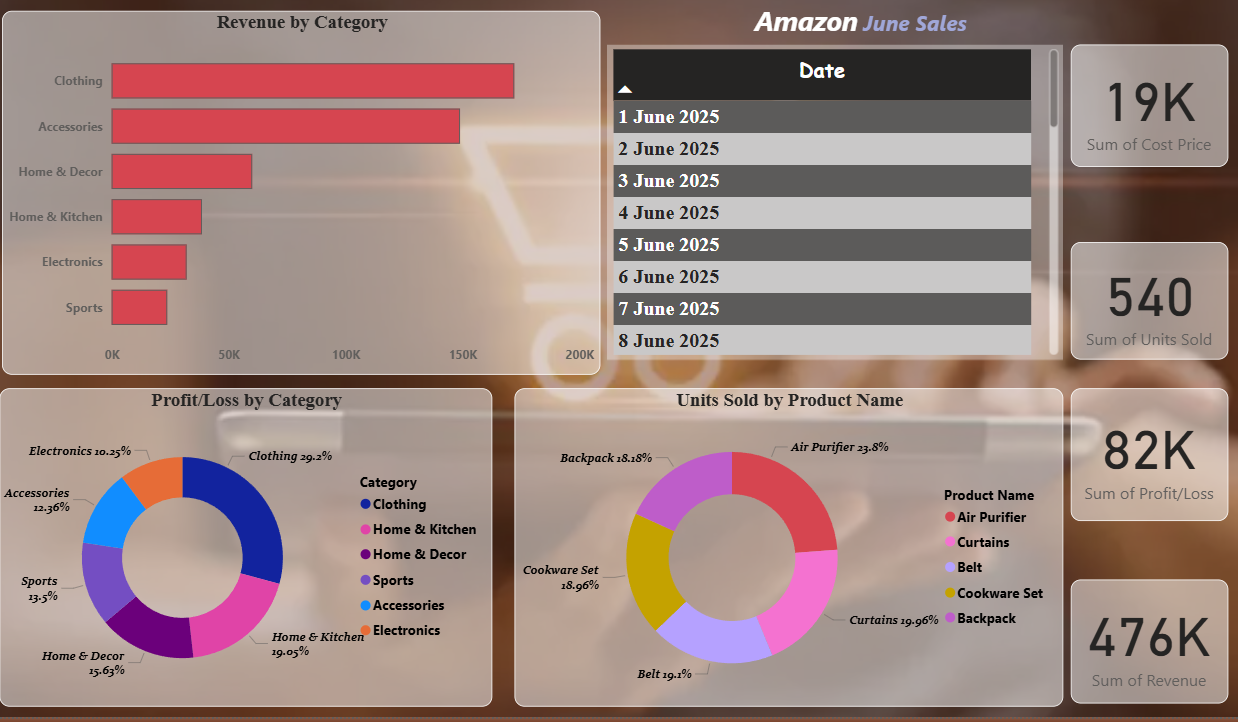

This screenshot's page, from the dashboard's own definition file:
{"tool":"powerbi","page":{"name":"Page 1","canvas":[1280,720],"ordinal":0},"visuals":[{"type":"barChart","title":" Revenue by Category","fields":{"Category":["Sheet1.Category"],"Y":["Sum(Sheet1.Revenue)"]},"box":[35,13.8,598.8,363.8],"z":0},{"type":"donutChart","title":"Profit/Loss by Category","fields":{"Category":["Sheet1.Category"],"Y":["Sum(Sheet1.Profit/Loss)"]},"box":[32.5,391.2,492.5,318.8],"z":1},{"type":"pieChart","title":" Units Sold by Product Name","fields":{"Category":["Sheet1.Product Name"],"Y":["Sum(Sheet1.Units Sold)"]},"box":[547.5,391.2,548.8,318.8],"z":2},{"type":"card","fields":{"Values":["Sum(Sheet1.Revenue)"]},"box":[1103.8,582.5,157.5,123.8],"z":3},{"type":"card","fields":{"Values":["Sum(Sheet1.Profit/Loss)"]},"box":[1103.8,391.2,157.5,132.5],"z":4},{"type":"card","fields":{"Values":["Sum(Sheet1.Units Sold)"]},"box":[1103.8,245,157.5,117.5],"z":5},{"type":"card","fields":{"Values":["Sum(Sheet1.Cost Price)"]},"box":[1103.8,47.5,157.5,122.5],"z":6},{"type":"tableEx","fields":{"Values":["Sheet1.Date"]},"box":[640,47.5,456.2,315],"z":7},{"type":"textbox","box":[656.2,0,475,83.8],"z":8}]}

Visuals, with their boxes in screenshot pixels (x1, y1, x2, y2):
" Revenue by Category" barChart: l=9, t=14, r=601, b=373
"Profit/Loss by Category" donutChart: l=6, t=387, r=493, b=702
" Units Sold by Product Name" pieChart: l=516, t=387, r=1058, b=702
card - Sum(Sheet1.Revenue): l=1066, t=576, r=1221, b=698
card - Sum(Sheet1.Profit/Loss): l=1066, t=387, r=1221, b=518
card - Sum(Sheet1.Units Sold): l=1066, t=242, r=1221, b=358
card - Sum(Sheet1.Cost Price): l=1066, t=47, r=1221, b=168
tableEx - Sheet1.Date: l=607, t=47, r=1058, b=358
textbox: l=623, t=0, r=1093, b=83
